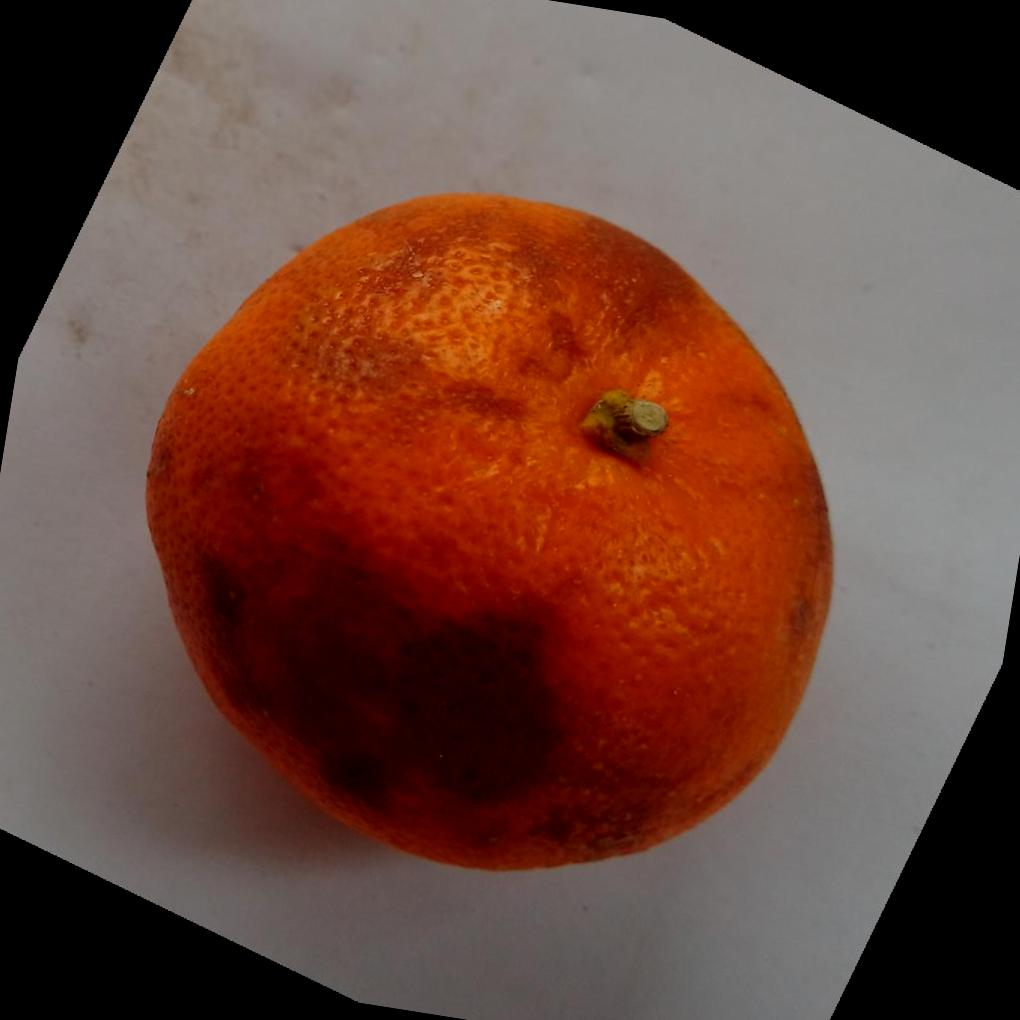FreshOrange: (142, 192, 835, 877)
